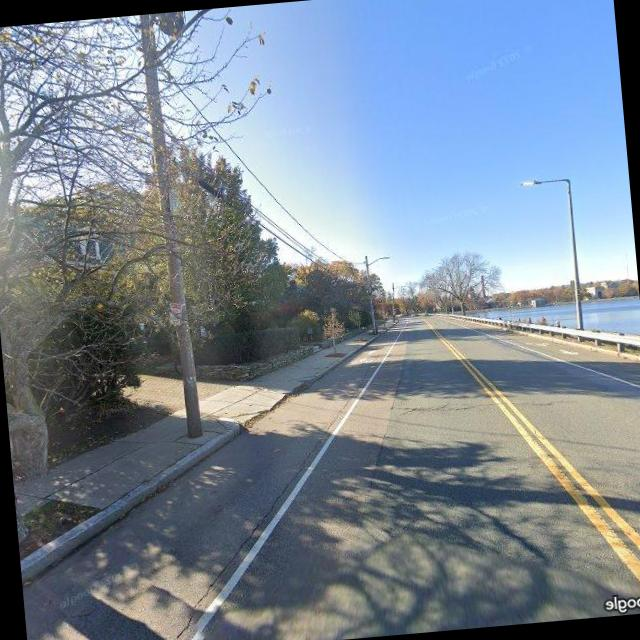crack: (172, 398, 370, 616), (396, 392, 498, 419)
